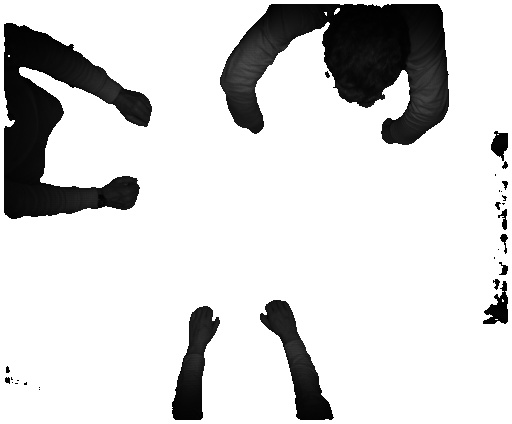fist: (104, 176, 143, 215), (119, 90, 151, 127)
hand: (256, 296, 303, 338), (184, 304, 223, 346)
